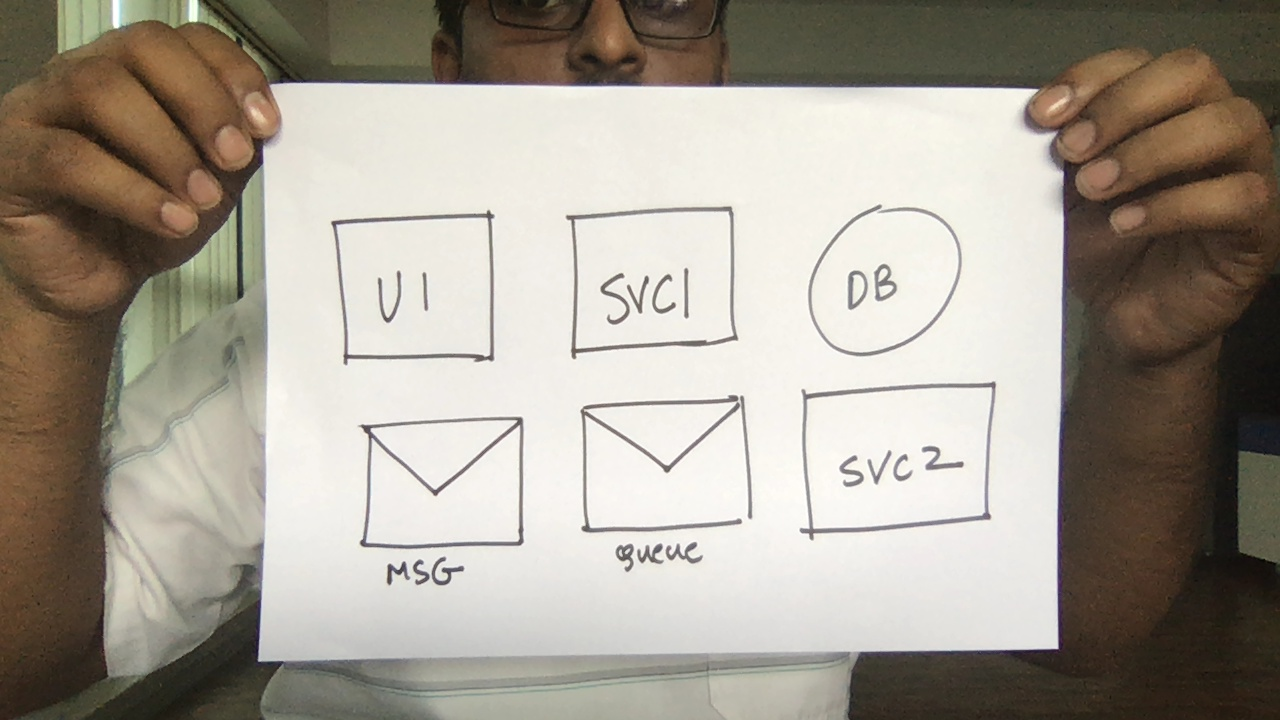db: (798, 196, 967, 362)
ec2: (792, 379, 1007, 543), (558, 201, 746, 357)
sns: (573, 389, 763, 591), (349, 411, 546, 599)
ui: (325, 209, 507, 369)
